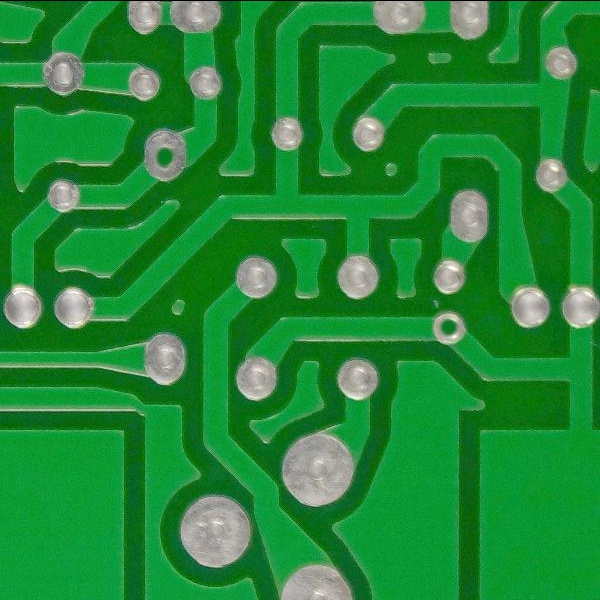missing_hole: (136, 122, 190, 187), (430, 305, 469, 351)
